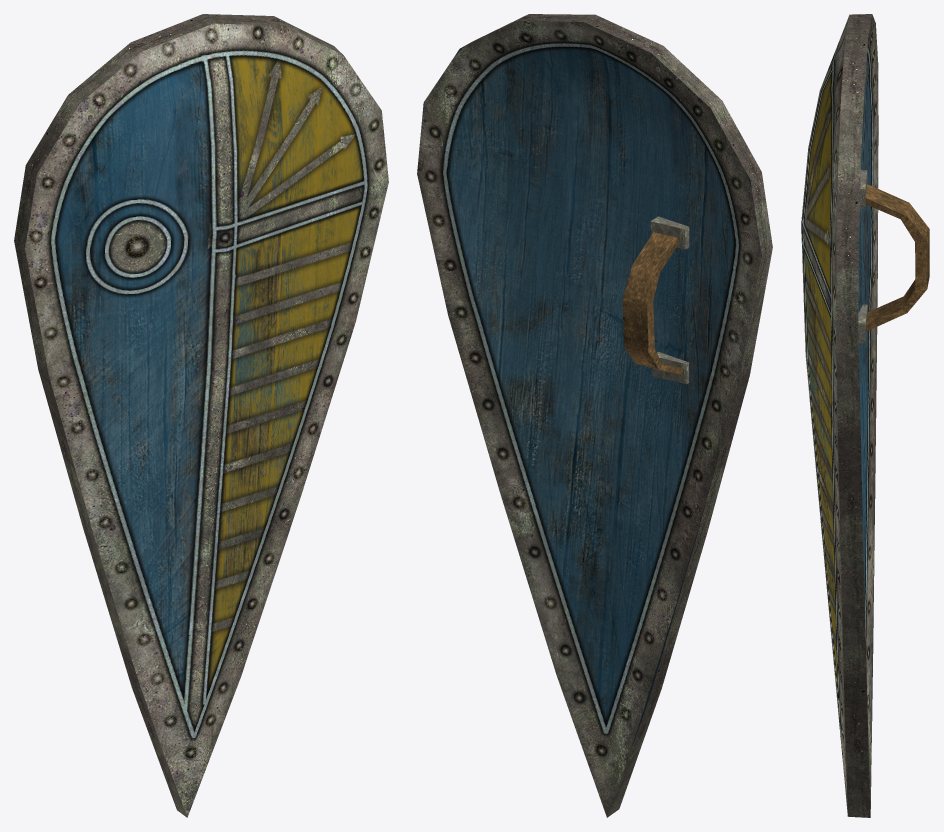
File: Kite_Footman_Shield.FBX
3 views of the same model, side by side, from view 1: azimuth 30°, elevation 25°; view 2: azimuth 150°, elevation 25°; view 3: azimuth 270°, elevation 25° (orthographic).
Visible parts, largest first — view 1: Kite_Footman_Shield; view 2: Kite_Footman_Shield; view 3: Kite_Footman_Shield.
Part boxes in pixels (box(x1,y1,x2,y2)): Kite_Footman_Shield: box(14, 14, 388, 817); Kite_Footman_Shield: box(417, 14, 772, 817); Kite_Footman_Shield: box(801, 14, 929, 817).
Bounding box in the file's own units: 59.91 × 127 × 18.68.
